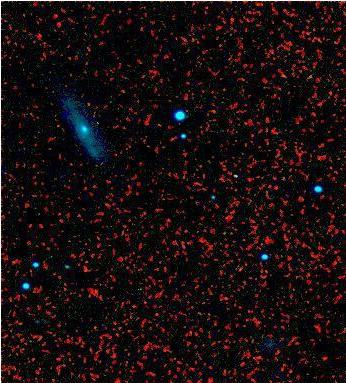star: (48, 98, 78, 128)
